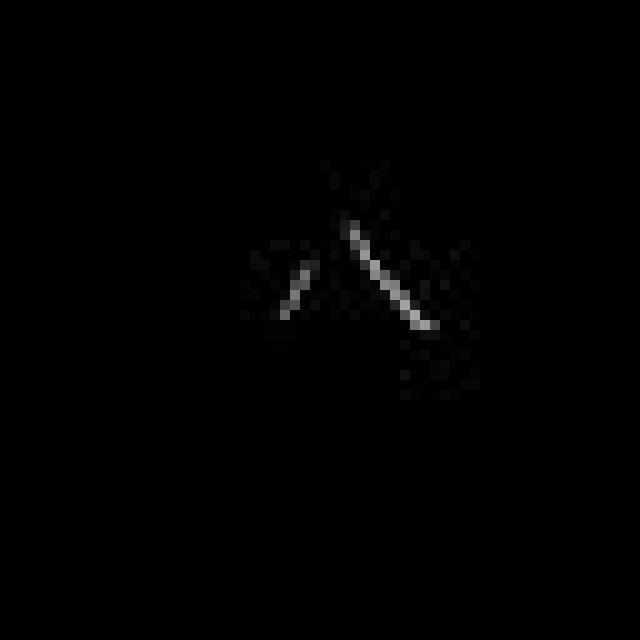8 -eight-: (251, 204, 456, 363)
